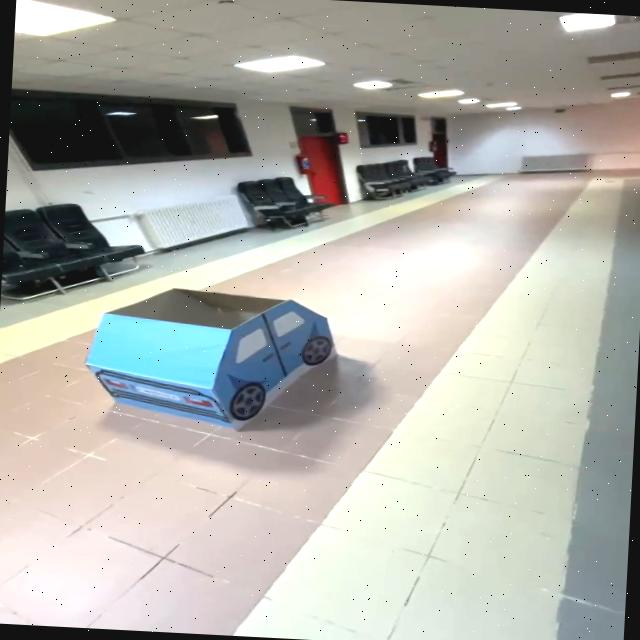blue_car: (58, 267, 358, 450)
